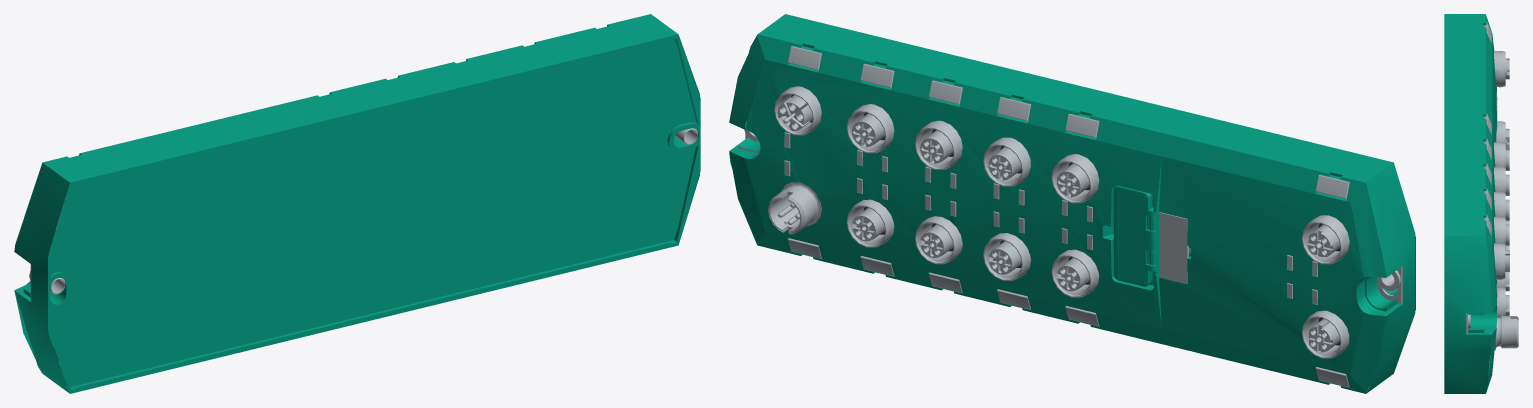
File: ICE2-8IOL-G65L-V1D.dae
3 views of the same model, side by side, from view 1: azimuth 30°, elevation 25°; view 2: azimuth 150°, elevation 25°; view 3: azimuth 270°, elevation 25° (orthographic). The views are drawn at different scales.
Visible parts, largest first — view 1: _EIP_MOD_Fieldbus10000758_0; view 2: _EIP_MOD_Fieldbus10000758_0; view 3: _EIP_MOD_Fieldbus10000758_0.
Part boxes in pixels (x1,y1,x2,y2): _EIP_MOD_Fieldbus10000758_0: [14, 14, 700, 393]; _EIP_MOD_Fieldbus10000758_0: [729, 14, 1415, 393]; _EIP_MOD_Fieldbus10000758_0: [1444, 14, 1518, 393].
Size of the model in its own units: 212 by 65 by 27.8.
